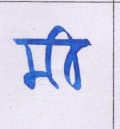i_matra: (54, 25, 84, 91)
